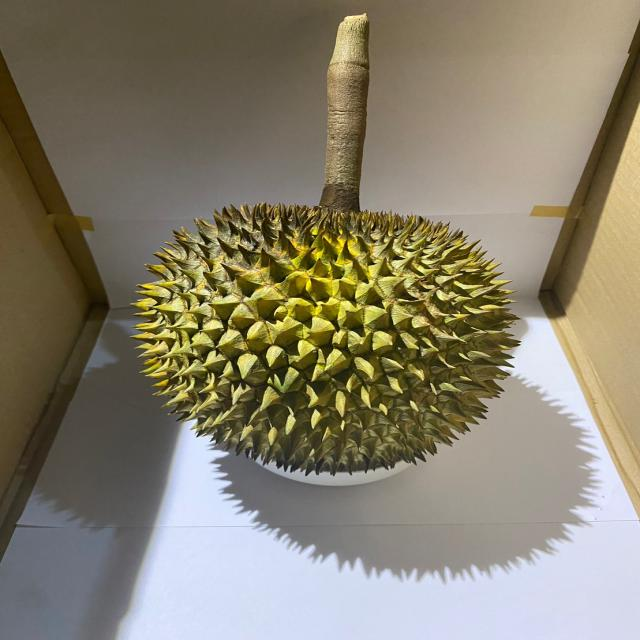immature: (129, 203, 522, 473)
